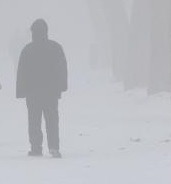person: (15, 18, 72, 158)
